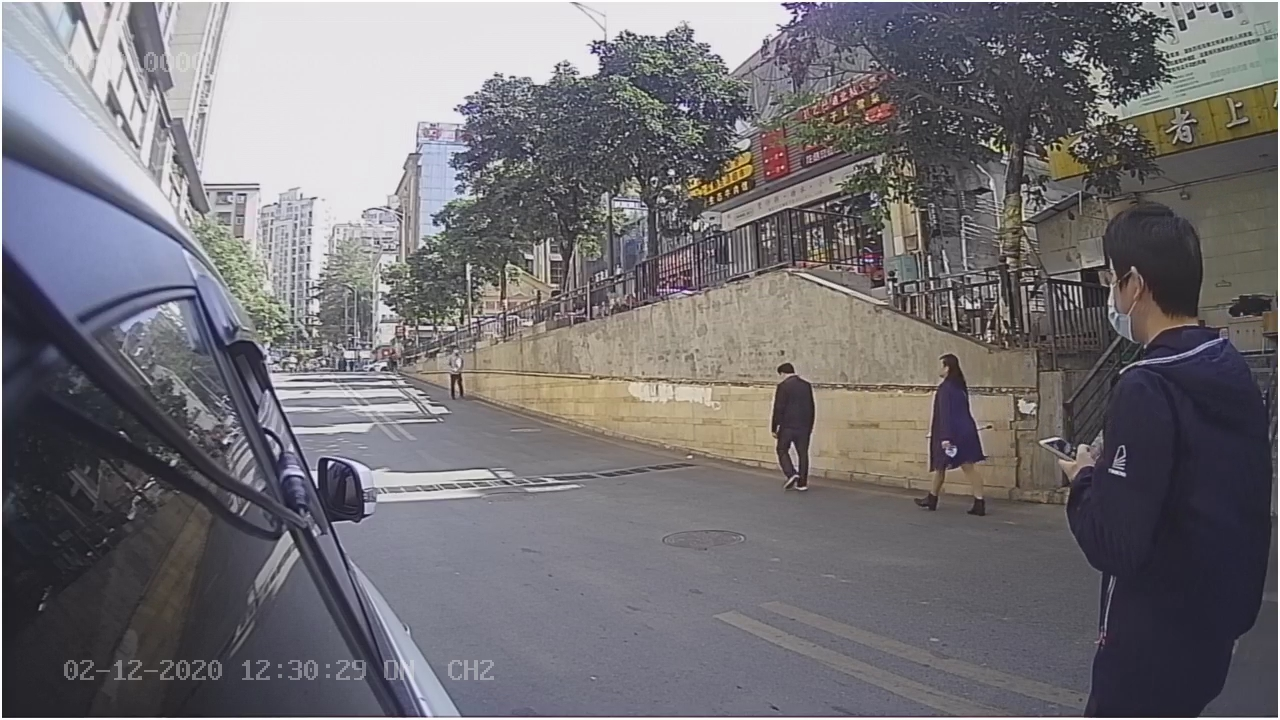person: (1051, 201, 1272, 521)
